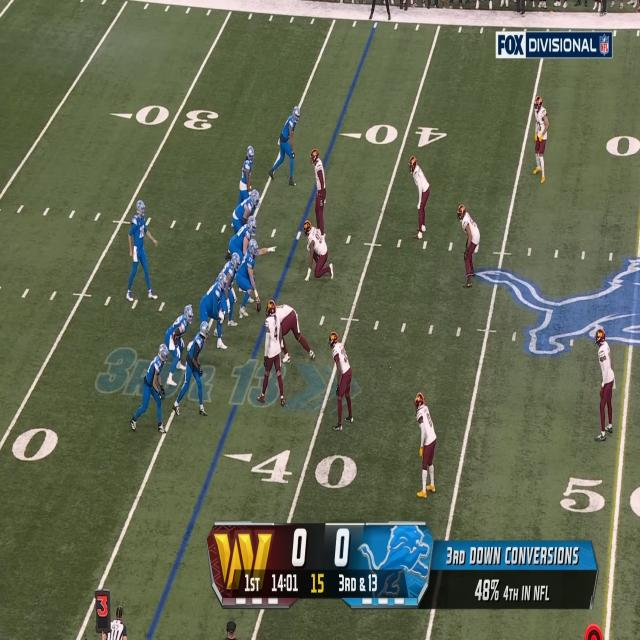Ball: (256, 299, 262, 312)
